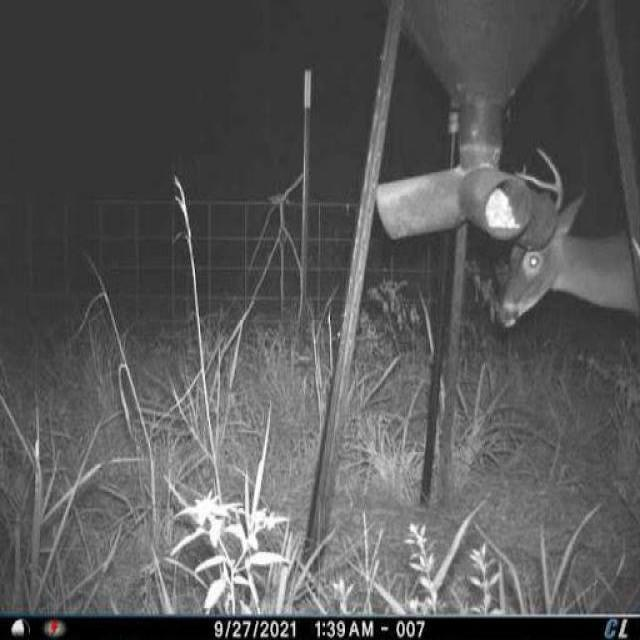deer: (486, 130, 640, 343)
